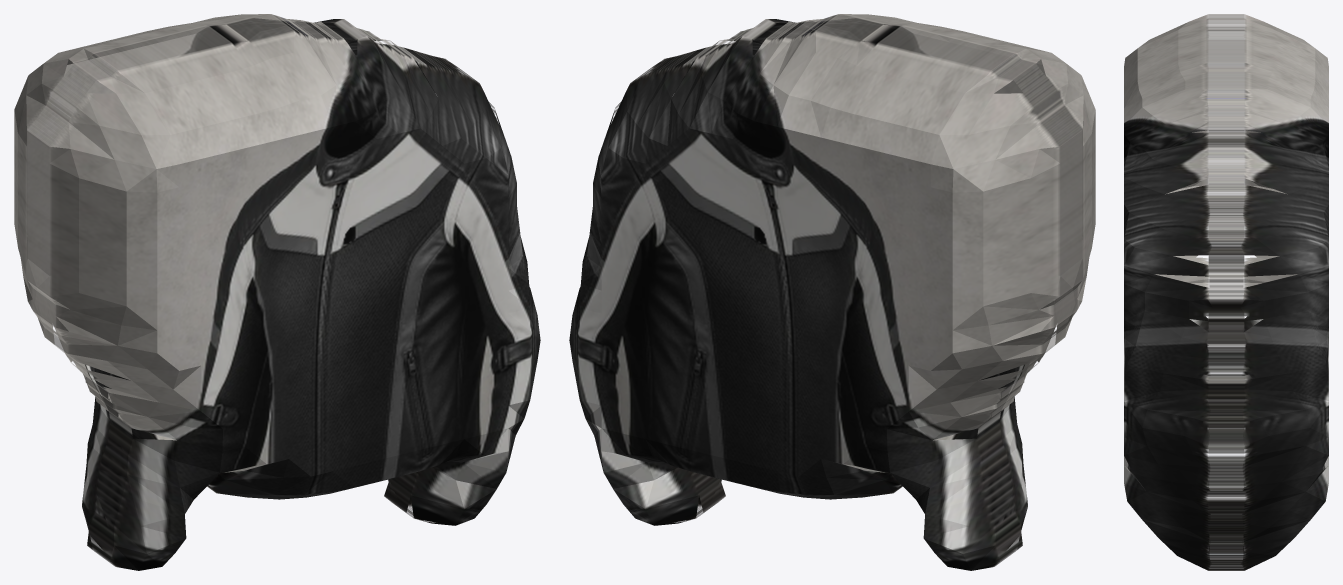
File: sena-vantage-mesh-jacket-016.glb
The picture shows the model from 3 angles, left to right: view 1: azimuth 30°, elevation 25°; view 2: azimuth 150°, elevation 25°; view 3: azimuth 270°, elevation 25°; orthographic projection. The views are drawn at different scales.
Visible parts, largest first — view 1: world; view 2: world; view 3: world.
Boxes of the visible parts, x1,y1,x2,y2 form: world: (14, 14, 540, 570); world: (569, 14, 1095, 570); world: (1124, 14, 1328, 570).
Size of the model in its own units: 0.937 by 1 by 0.44.
Materials: 1 (1 with a texture image).
